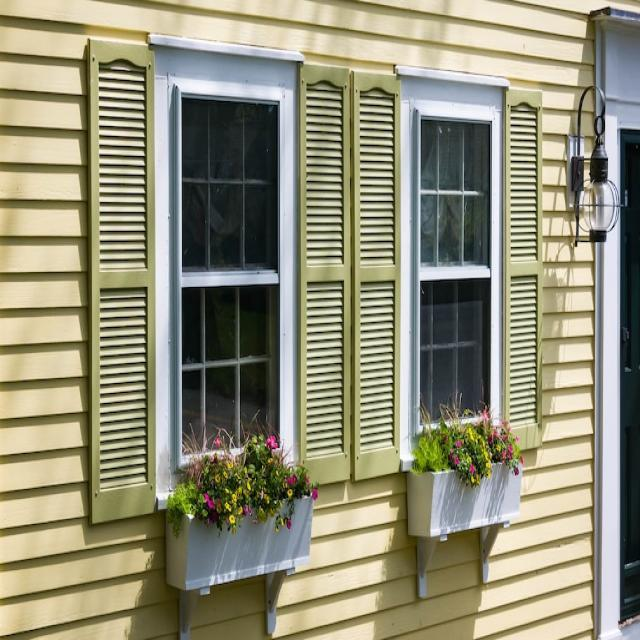Window: (170, 75, 280, 461), (414, 102, 490, 432)
